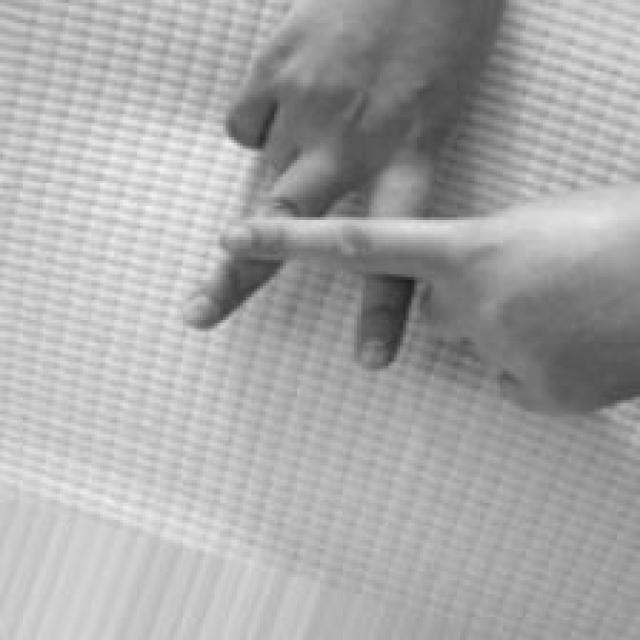A: (171, 0, 639, 421)
